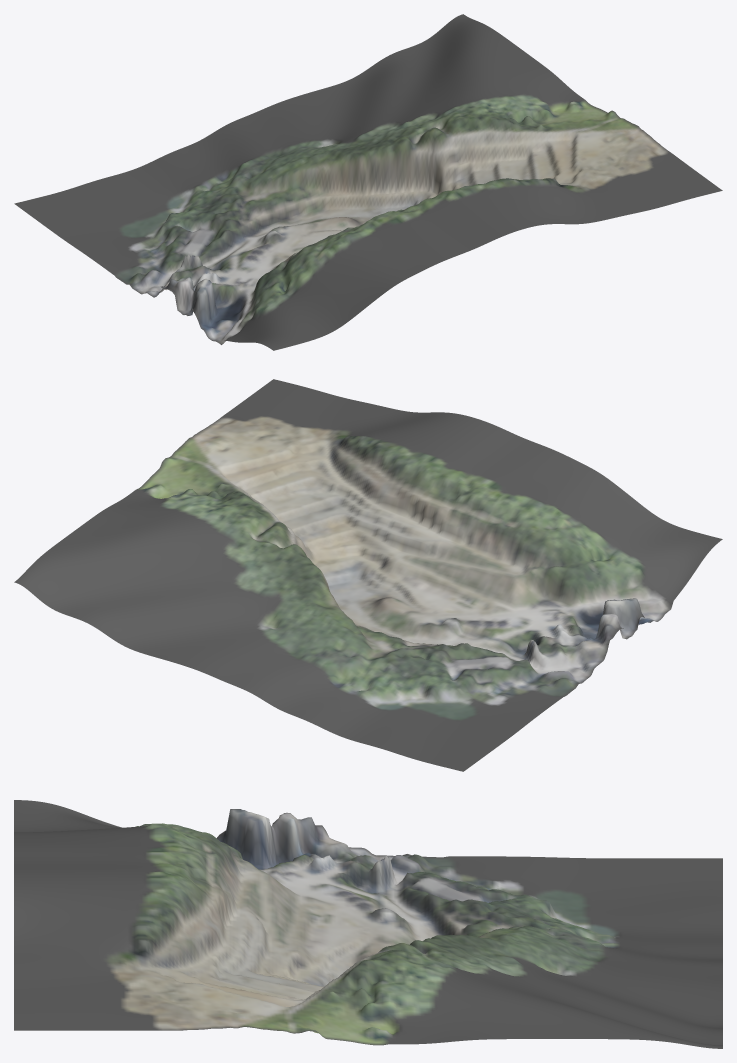
File: terrain.glb
3 renders of one model, top to bottom at view 1: azimuth 30°, elevation 25°; view 2: azimuth 150°, elevation 25°; view 3: azimuth 270°, elevation 25°, orthographic. The views are drawn at different scales.
Parts seen in each view (by area): view 1: geometry_0; view 2: geometry_0; view 3: geometry_0.
Part boxes in pixels (x1,y1,x2,y2): geometry_0: (14, 14, 722, 350); geometry_0: (14, 379, 722, 771); geometry_0: (14, 800, 722, 1048).
Bounding box in the file's own units: 435 × 97.29 × 435.
